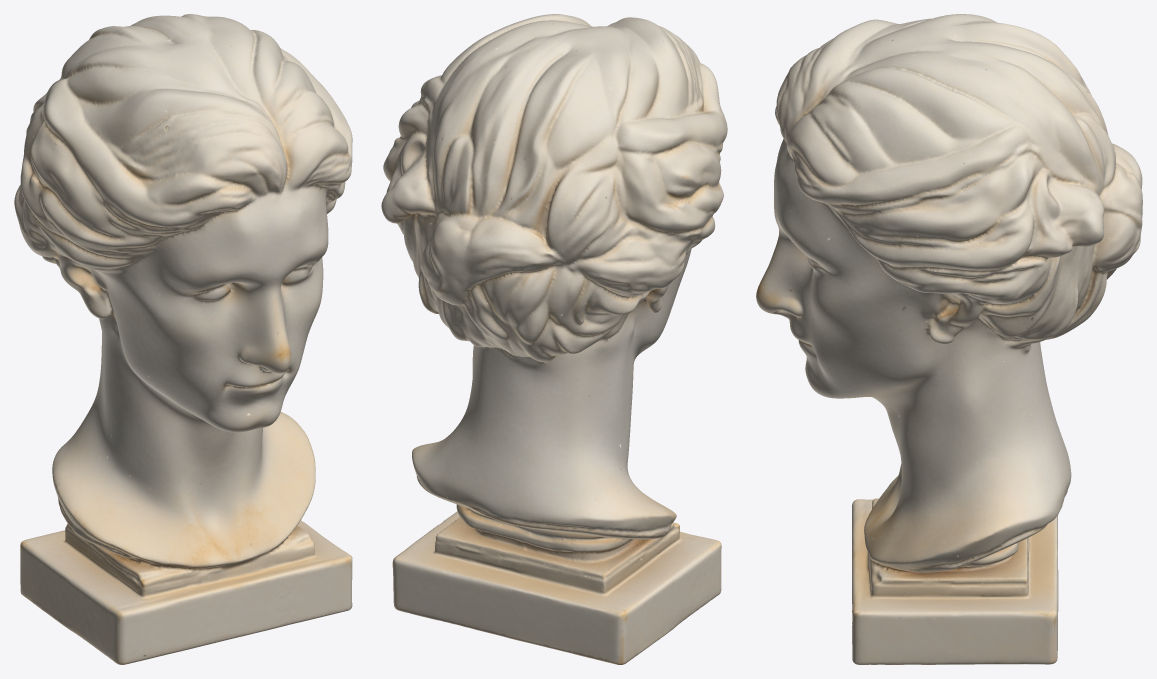
The model's file is Meshy_AI_Classical_marble_scul_0808115614_texture.glb.
3 views of the same model, side by side, from view 1: azimuth 30°, elevation 25°; view 2: azimuth 150°, elevation 25°; view 3: azimuth 270°, elevation 25° (orthographic).
Bounding box in the file's own units: 1.1 × 2 × 1.24.
Materials: 1 (1 with a texture image).
